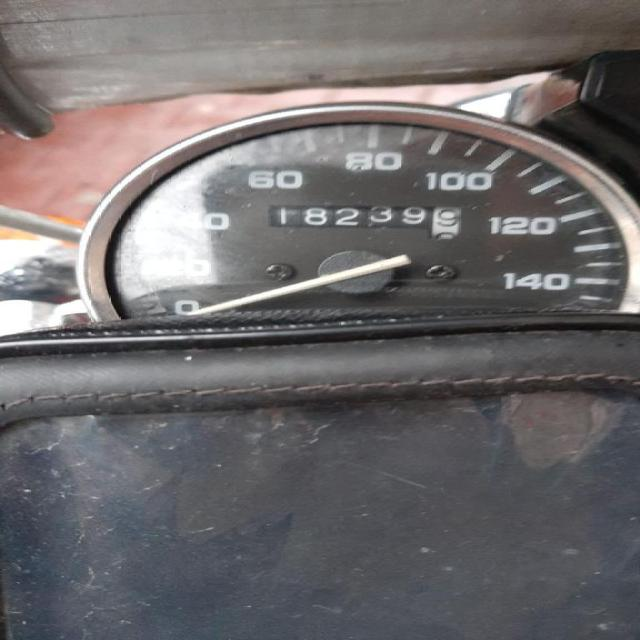odometer: (264, 202, 466, 240)
